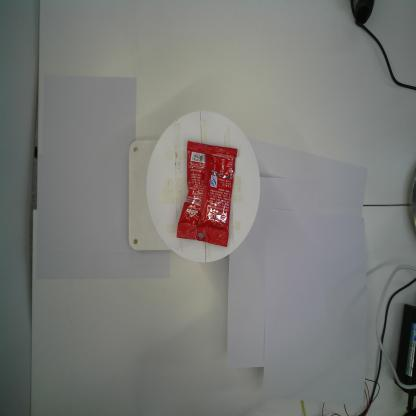Instant Drink: (175, 140, 237, 247)
